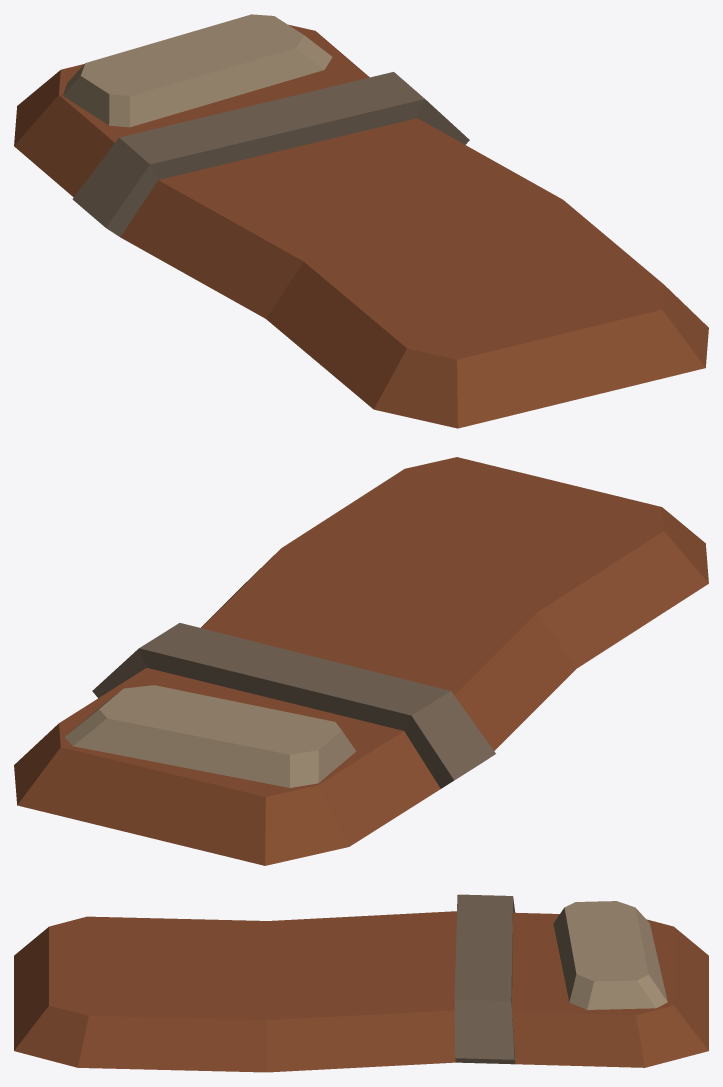
Rendered from LP_PostApoc_SleepingBag.fbx.
3 renders of one model, top to bottom at view 1: azimuth 30°, elevation 25°; view 2: azimuth 150°, elevation 25°; view 3: azimuth 270°, elevation 25°, orthographic. The views are drawn at different scales.
Parts seen in each view (by area): view 1: SleepingBag; view 2: SleepingBag; view 3: SleepingBag.
Boxes of the visible parts, x1=… form: SleepingBag: x1=14, y1=14, x2=708, y2=428; SleepingBag: x1=14, y1=457, x2=708, y2=865; SleepingBag: x1=14, y1=894, x2=708, y2=1072.
Size of the model in its own units: 87.72 by 16.05 by 179.
